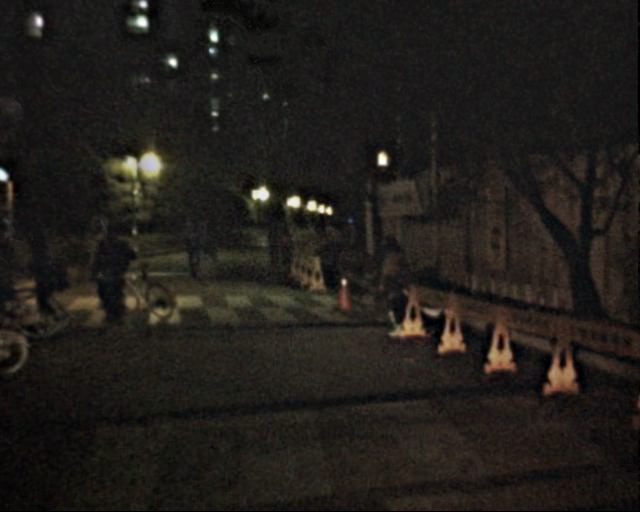person: (29, 221, 74, 330), (1, 218, 39, 338), (96, 222, 139, 326), (372, 232, 413, 332), (84, 216, 124, 313), (178, 216, 202, 275), (195, 223, 217, 276), (262, 224, 279, 266), (272, 225, 289, 267)
